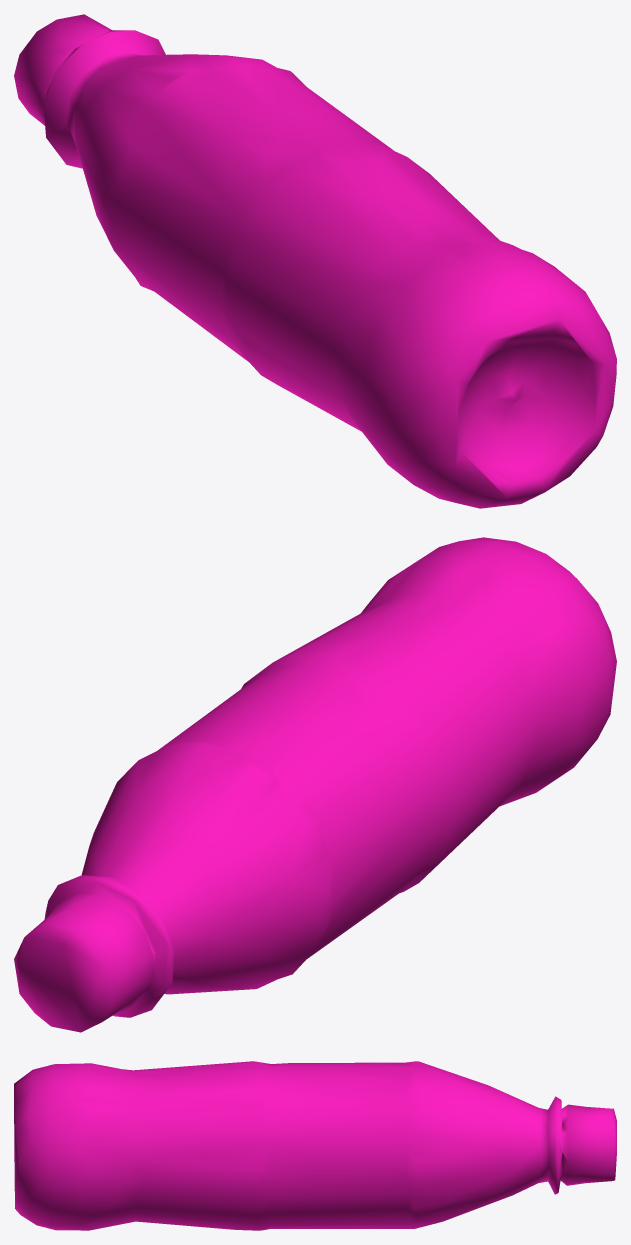
File: bottle5_5.dae
3 views of the same model, one above another, from view 1: azimuth 30°, elevation 25°; view 2: azimuth 150°, elevation 25°; view 3: azimuth 270°, elevation 25° (orthographic). The views are drawn at different scales.
Parts seen in each view (by area): view 1: CokePlasticSmallGrasp_800_tex_019; view 2: CokePlasticSmallGrasp_800_tex_019; view 3: CokePlasticSmallGrasp_800_tex_019.
Boxes of the visible parts, left/top/right/bottom form: CokePlasticSmallGrasp_800_tex_019: left=14, top=14, right=616, bottom=508; CokePlasticSmallGrasp_800_tex_019: left=14, top=537, right=616, bottom=1032; CokePlasticSmallGrasp_800_tex_019: left=14, top=1061, right=616, bottom=1230.
Bounding box in the file's own units: 0.045 × 0.1586 × 0.045.
